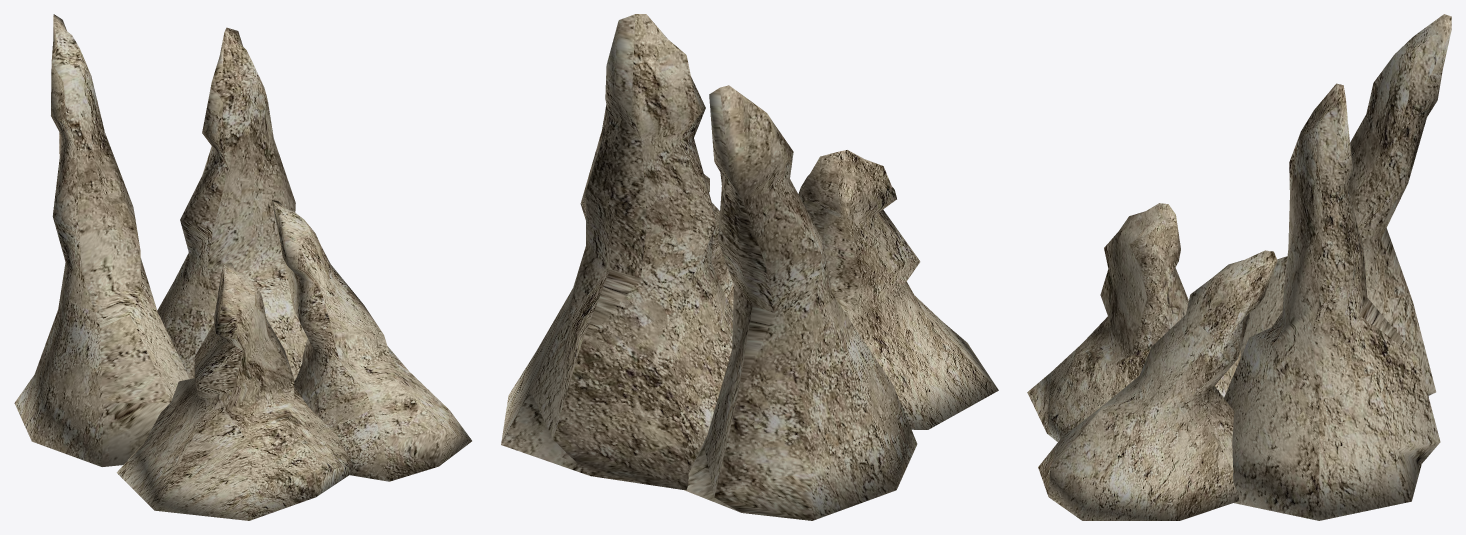
Rendered from rock_stone_bl02.glb.
3 renders of one model, left to right at view 1: azimuth 30°, elevation 25°; view 2: azimuth 150°, elevation 25°; view 3: azimuth 270°, elevation 25°, orthographic. The views are drawn at different scales.
Parts seen in each view (by area): view 1: rock_stone_bl02; view 2: rock_stone_bl02; view 3: rock_stone_bl02.
Boxes of the visible parts, x1,y1,x2,y2 form: rock_stone_bl02: [14, 14, 471, 520]; rock_stone_bl02: [501, 14, 998, 520]; rock_stone_bl02: [1027, 14, 1451, 520].
Size of the model in its own units: 6.62 by 7.17 by 7.01.
1 material, 1 textured.
